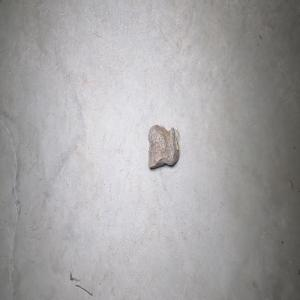Rock: (147, 121, 179, 168)
